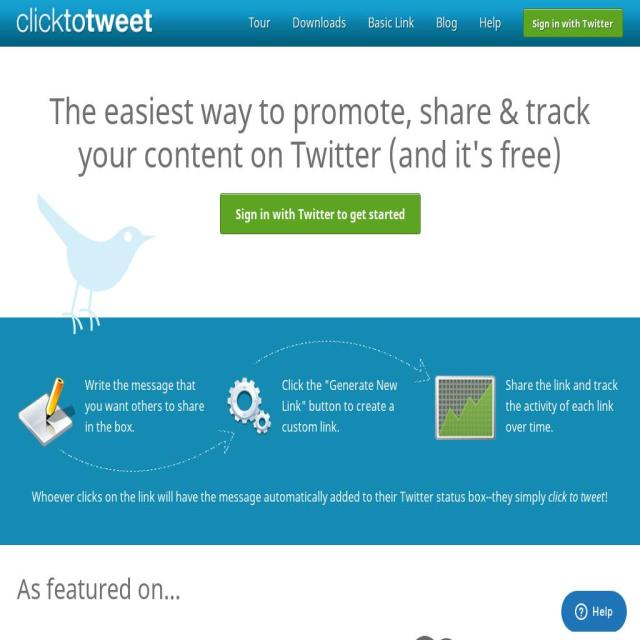button: (220, 193, 420, 234), (17, 0, 154, 38), (523, 8, 623, 38), (282, 11, 356, 35), (358, 11, 424, 35), (239, 11, 280, 35), (426, 11, 467, 35), (470, 11, 510, 35)
heading: (49, 85, 590, 135), (78, 128, 562, 178), (17, 574, 623, 603), (17, 7, 154, 36)
iframe: (558, 590, 628, 632)
image: (38, 193, 160, 334), (250, 338, 432, 388), (16, 375, 76, 449), (433, 375, 496, 440), (54, 454, 236, 474), (225, 375, 273, 439), (404, 636, 484, 640), (623, 636, 640, 640)
text: (17, 375, 207, 437), (225, 375, 415, 437), (433, 375, 623, 437), (32, 487, 548, 506), (548, 487, 604, 506), (604, 487, 608, 506)
